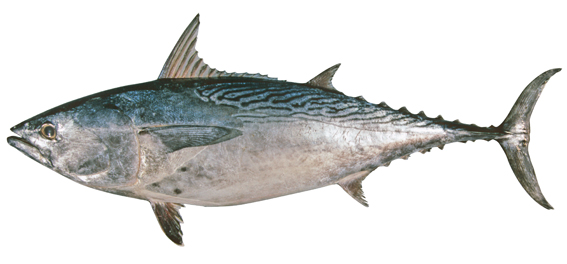fish: (6, 13, 563, 247)
